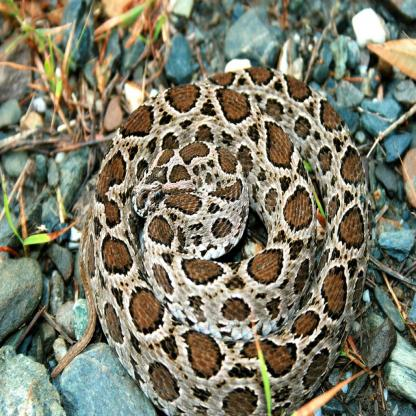Snake: (80, 61, 367, 416)
